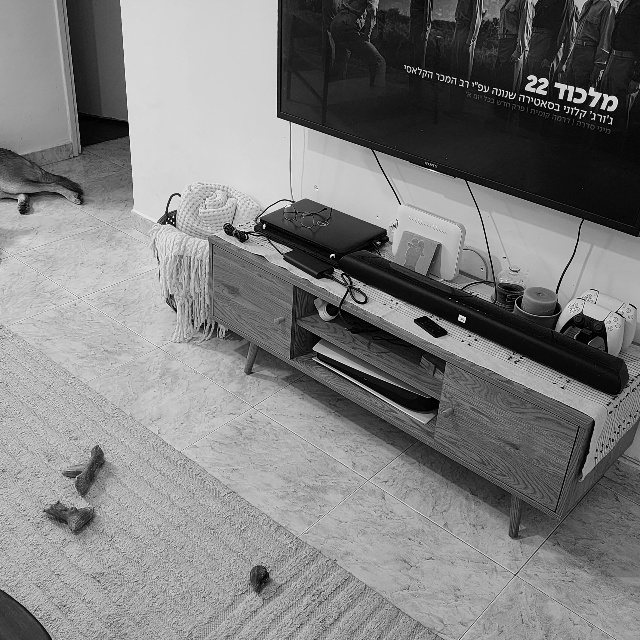glasses: (278, 202, 337, 231)
